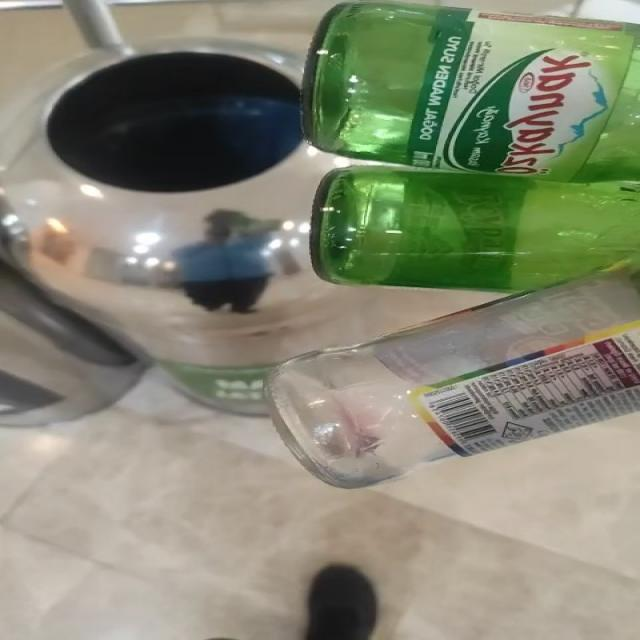glass: (268, 2, 640, 488)
